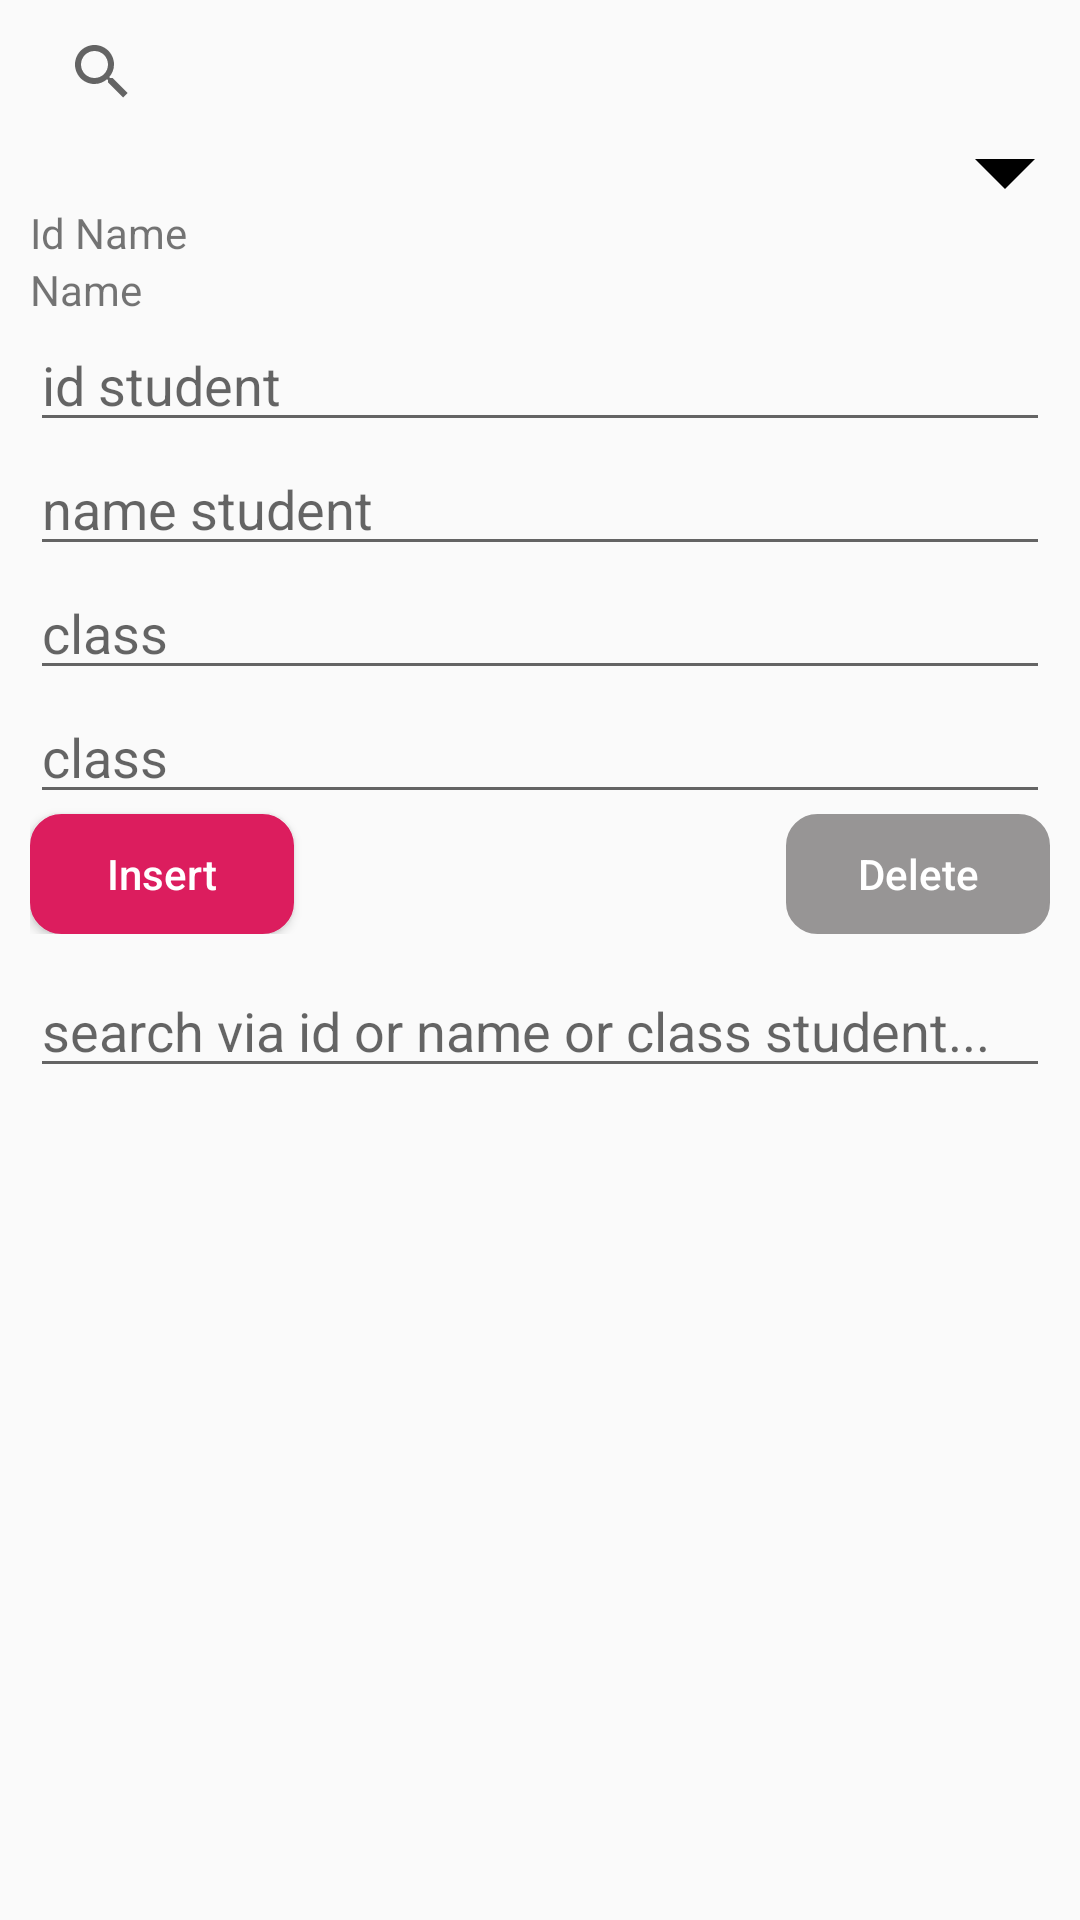

Where to tap for icons on this 1080×1920 app screen, as (x,y):
show: (1005,174)
